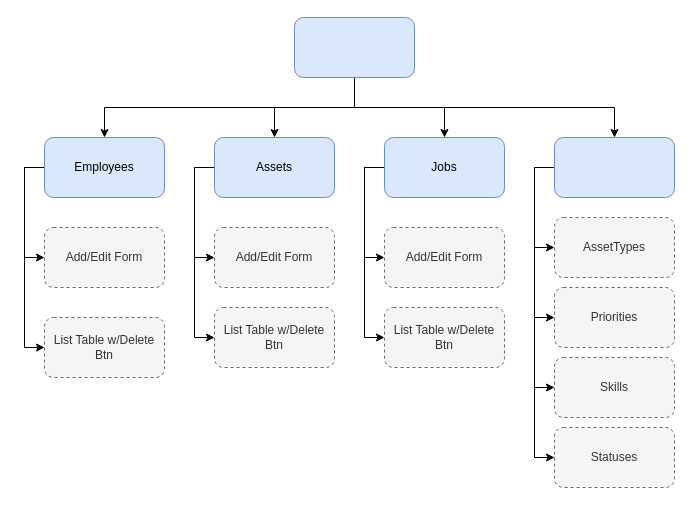
Some shapes in this 692 by 505 pixel diagram are drawn without their labels. Here are the shapes that lost their labels. From the top down, the centre of each, then its label:
point 354,47: Home
point 614,167: Administration
